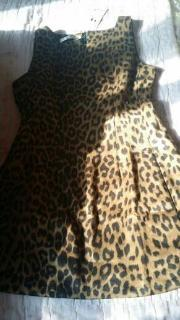vest: (0, 16, 180, 299)
